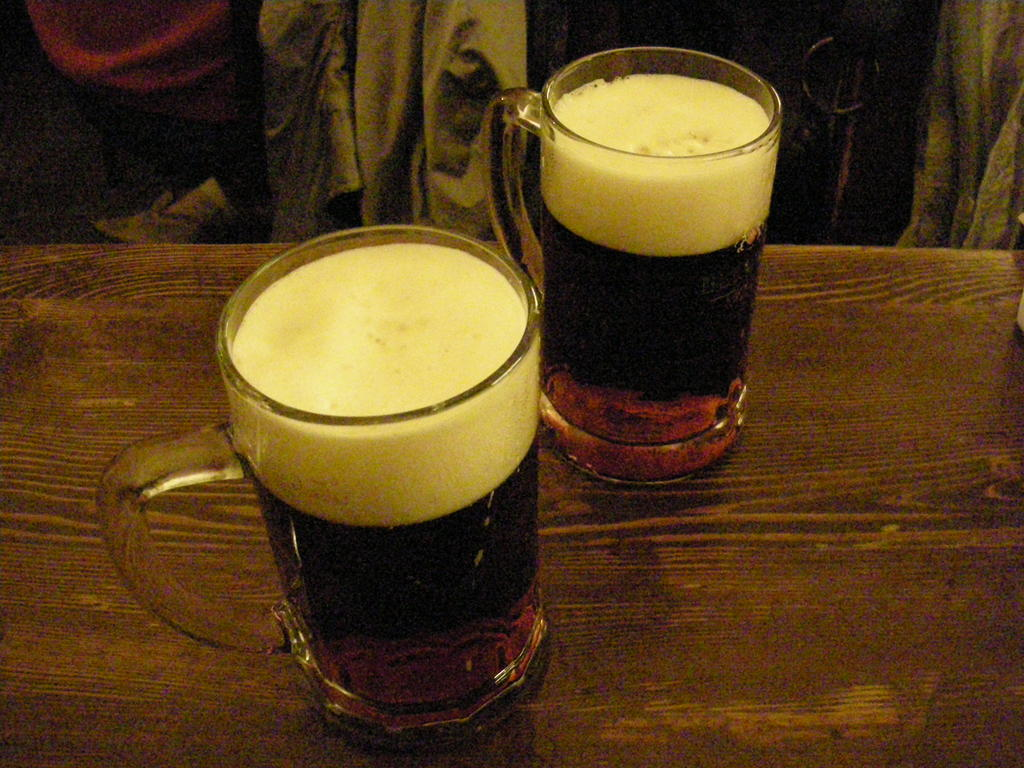Beer: (95, 226, 547, 747), (479, 45, 782, 487)
